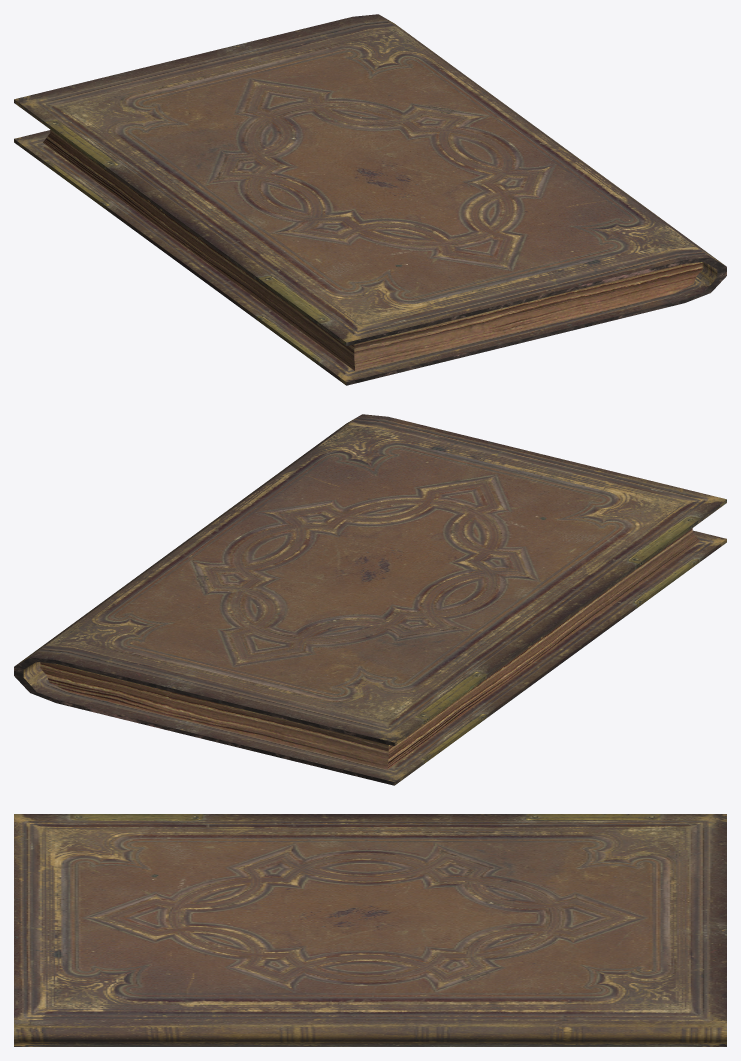
File: b2_LFST_04.FBX
The picture shows the model from 3 angles, top to bottom: view 1: azimuth 30°, elevation 25°; view 2: azimuth 150°, elevation 25°; view 3: azimuth 270°, elevation 25°; orthographic projection. The views are drawn at different scales.
Parts seen in each view (by area): view 1: Line002; view 2: Line002; view 3: Line002.
Part boxes in pixels (left/top/right/bottom): Line002: left=14, top=14, right=726, bottom=385; Line002: left=14, top=414, right=726, bottom=785; Line002: left=14, top=814, right=726, bottom=1046.
Size of the model in its own units: 190 by 20.6 by 288.
